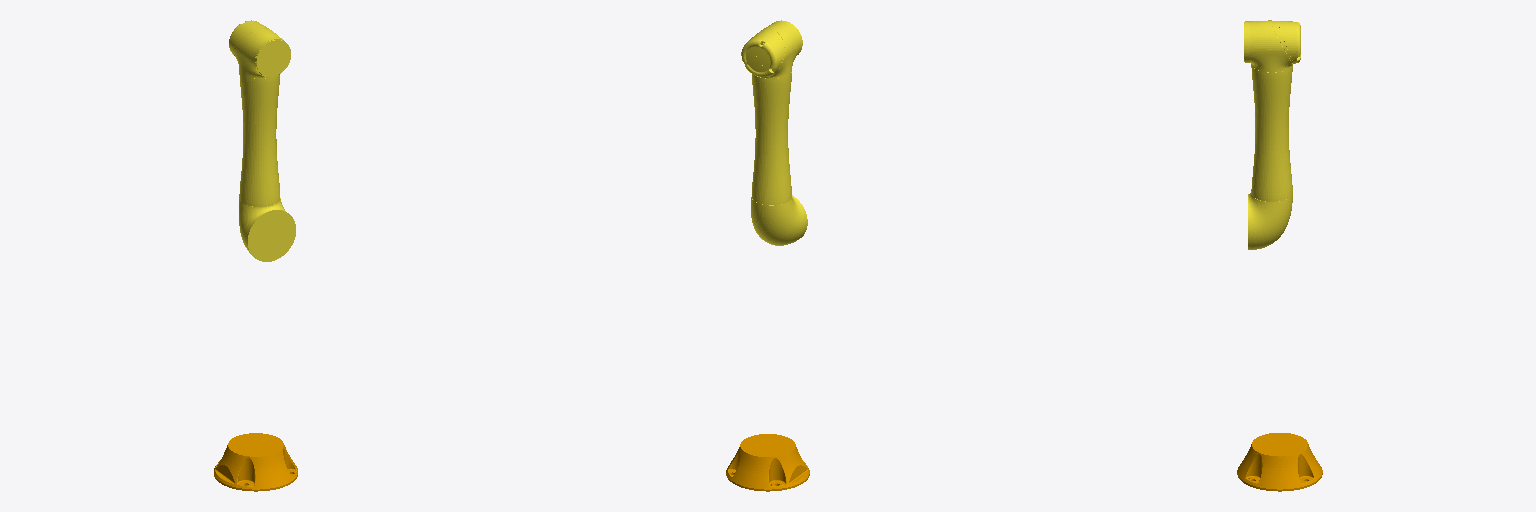
robot.urdf — tm5-900:
<?xml version="1.0" ?>
<!-- =================================================================================== -->
<!-- |    This document was autogenerated by xacro from tm5-900.urdf.xacro             | -->
<!-- |    EDITING THIS FILE BY HAND IS NOT RECOMMENDED                                 | -->
<!-- =================================================================================== -->
<robot name="tm5-900">
  <gazebo reference="link_1">
    <selfCollide>true</selfCollide>
  </gazebo>
  <gazebo reference="link_2">
    <selfCollide>true</selfCollide>
  </gazebo>
  <gazebo reference="link_3">
    <selfCollide>true</selfCollide>
  </gazebo>
  <gazebo reference="link_4">
    <selfCollide>true</selfCollide>
  </gazebo>
  <gazebo reference="link_5">
    <selfCollide>true</selfCollide>
  </gazebo>
  <gazebo reference="link_6">
    <selfCollide>true</selfCollide>
  </gazebo>
  <gazebo>
    <plugin filename="libgazebo_ros_control.so" name="gazebo_ros_control">
      <robotNamespace>/</robotNamespace>
      <robotSimType>gazebo_ros_control/DefaultRobotHWSim</robotSimType>
    </plugin>
  </gazebo>
  <transmission name="trans_1">
    <type>transmission_interface/SimpleTransmission</type>
    <joint name="joint_1">
      <hardwareInterface>hardware_interface/PositionJointInterface</hardwareInterface>
    </joint>
    <actuator name="motor_1">
      <mechanicalReduction>1</mechanicalReduction>
    </actuator>
  </transmission>
  <transmission name="trans_2">
    <type>transmission_interface/SimpleTransmission</type>
    <joint name="joint_2">
      <hardwareInterface>hardware_interface/PositionJointInterface</hardwareInterface>
    </joint>
    <actuator name="motor_2">
      <mechanicalReduction>1</mechanicalReduction>
    </actuator>
  </transmission>
  <transmission name="trans_3">
    <type>transmission_interface/SimpleTransmission</type>
    <joint name="joint_3">
      <hardwareInterface>hardware_interface/PositionJointInterface</hardwareInterface>
    </joint>
    <actuator name="motor_3">
      <mechanicalReduction>1</mechanicalReduction>
    </actuator>
  </transmission>
  <transmission name="trans_4">
    <type>transmission_interface/SimpleTransmission</type>
    <joint name="joint_4">
      <hardwareInterface>hardware_interface/PositionJointInterface</hardwareInterface>
    </joint>
    <actuator name="motor_4">
      <mechanicalReduction>1</mechanicalReduction>
    </actuator>
  </transmission>
  <transmission name="trans_5">
    <type>transmission_interface/SimpleTransmission</type>
    <joint name="joint_5">
      <hardwareInterface>hardware_interface/PositionJointInterface</hardwareInterface>
    </joint>
    <actuator name="motor_5">
      <mechanicalReduction>1</mechanicalReduction>
    </actuator>
  </transmission>
  <transmission name="trans_6">
    <type>transmission_interface/SimpleTransmission</type>
    <joint name="joint_6">
      <hardwareInterface>hardware_interface/PositionJointInterface</hardwareInterface>
    </joint>
    <actuator name="motor_6">
      <mechanicalReduction>1</mechanicalReduction>
    </actuator>
  </transmission>
  <material name="lightgrey">
    <color rgba="0.5 0.5 0.5 1.0"/>
  </material>
  <material name="grey">
    <color rgba="0.75 0.75 0.75 1.0"/>
  </material>
  <material name="white">
    <color rgba="0.95 0.95 0.95 1.0"/>
  </material>
  <material name="red">
    <color rgba="0.95 0.0 0.0 1.0"/>
  </material>
  <material name="orange">
    <color rgba="1.0 0.5 0.0 1.0"/>
  </material>
  <material name="yellow">
    <color rgba="1.0 1.0 0.0 1.0"/>
  </material>
  <material name="green">
    <color rgba="0.0 1.0 0.0 1.0"/>
  </material>
  <material name="blue">
    <color rgba="0.0 0.0 1.0 1.0"/>
  </material>
  <material name="indigo">
    <color rgba="0.3 0.3 0.6 1.0"/>
  </material>
  <material name="violet">
    <color rgba="0.6 0.0 1.0 1.0"/>
  </material>
  <material name="black">
    <color rgba="0.0 0.0 0.0 1.0"/>
  </material>
  <material name="darkolive">
    <color rgba="0.3 0.3 0.25 1.0"/>
  </material>
  <!--LinkDescription-->
  <link name="link_0">
    <visual>
      <geometry>
        <mesh filename="package://tm_description/meshes/tm5-900/visual/tm5-base.obj"/>
      </geometry>
      <material name="none"/>
    </visual>
    <collision>
      <geometry>
        <mesh filename="package://tm_description/meshes/tm5-900/collision/tm5-base_c.stl"/>
      </geometry>
    </collision>
    <inertial>
      <mass value="1.0"/>
      <origin rpy="0.000000 0.000000 0.000000" xyz="0.000000 0.000000 0.000000"/>
      <inertia ixx="0.00110833289" ixy="0.0" ixz="0.0" iyy="0.00110833289" iyz="0.0" izz="0.0018"/>
    </inertial>
  </link>
  <joint name="joint_1" type="revolute">
    <parent link="link_0"/>
    <child link="link_1"/>
    <origin rpy="0.000000 -0.000000 0.000000" xyz="0.000000 0.000000 0.145100"/>
    <axis xyz="0 0 1"/>
    <!--limit-->
    <limit effort="157" lower="-4.71238898038469" upper="4.71238898038469" velocity="3.141592653589793"/>
    <dynamics damping="0.0" friction="0.0"/>
  </joint>
  <link name="link_1">
    <visual>
      <geometry>
        <mesh filename="package://tm_description/meshes/tm5-900/visual/tmr_400w_01.obj"/>
      </geometry>
      <material name="none"/>
    </visual>
    <collision>
      <geometry>
        <mesh filename="package://tm_description/meshes/tm5-900/collision/tmr_400w_01_c.stl"/>
      </geometry>
    </collision>
    <inertial>
      <origin rpy="0.000000 0.000000 0.000000" xyz="0.000000 0.000000 0.000000"/>
      <mass value="4.032"/>
      <inertia ixx="0.008800119" ixy="0.000000" ixz="0.000000" iyy="0.011548982" iyz="0.000000" izz="0.011970080999999999"/>
    </inertial>
  </link>
  <joint name="joint_2" type="revolute">
    <parent link="link_1"/>
    <child link="link_2"/>
    <origin rpy="-1.570796 -1.570796 0.000000" xyz="0.000000 0.000000 0.000000"/>
    <axis xyz="0 0 1"/>
    <!--limit-->
    <limit effort="157" lower="-3.141592653589793" upper="3.141592653589793" velocity="3.141592653589793"/>
    <dynamics damping="0.0" friction="0.0"/>
  </joint>
  <link name="link_2">
    <visual>
      <geometry>
        <mesh filename="package://tm_description/meshes/tm5-900/visual/tm5-900_arm1.obj"/>
      </geometry>
      <material name="none"/>
    </visual>
    <collision>
      <geometry>
        <mesh filename="package://tm_description/meshes/tm5-900/collision/tm5-900_arm1_c.stl"/>
      </geometry>
    </collision>
    <inertial>
      <origin rpy="0.000000 0.000000 0.000000" xyz="0.000000 0.000000 0.000000"/>
      <mass value="8.567"/>
      <inertia ixx="0.023552072" ixy="0.000000" ixz="0.000000" iyy="0.19825197" iyz="0.000000" izz="0.20459254"/>
    </inertial>
  </link>
  <joint name="joint_3" type="revolute">
    <parent link="link_2"/>
    <child link="link_3"/>
    <origin rpy="0.000000 -0.000000 0.000000" xyz="0.429000 0.000000 0.000000"/>
    <axis xyz="0 0 1"/>
    <!--limit-->
    <limit effort="157" lower="-2.705260340591211" upper="2.705260340591211" velocity="3.141592653589793"/>
    <dynamics damping="0.0" friction="0.0"/>
  </joint>
  <link name="link_3">
    <visual>
      <geometry>
        <mesh filename="package://tm_description/meshes/tm5-900/visual/tm5-900_arm2.obj"/>
      </geometry>
      <material name="none"/>
    </visual>
    <collision>
      <geometry>
        <mesh filename="package://tm_description/meshes/tm5-900/collision/tm5-900_arm2_c.stl"/>
      </geometry>
    </collision>
    <inertial>
      <origin rpy="0.000000 0.000000 0.000000" xyz="0.000000 0.000000 0.000000"/>
      <mass value="2.273"/>
      <inertia ixx="0.003380181" ixy="0.000000" ixz="0.000000" iyy="0.033829144" iyz="0.000000" izz="0.034328203"/>
    </inertial>
  </link>
  <joint name="joint_4" type="revolute">
    <parent link="link_3"/>
    <child link="link_4"/>
    <origin rpy="0.000000 -0.000000 1.570796" xyz="0.411500 0.000000 -0.122200"/>
    <axis xyz="0 0 1"/>
    <!--limit-->
    <limit effort="43" lower="-3.141592653589793" upper="3.141592653589793" velocity="3.9269908169872414"/>
    <dynamics damping="0.0" friction="0.0"/>
  </joint>
  <link name="link_4">
    <visual>
      <geometry>
        <mesh filename="package://tm_description/meshes/tm5-900/visual/tmr_100w_01.obj"/>
      </geometry>
      <material name="none"/>
    </visual>
    <collision>
      <geometry>
        <mesh filename="package://tm_description/meshes/tm5-900/collision/tmr_100w_01_c.stl"/>
      </geometry>
    </collision>
    <inertial>
      <origin rpy="0.000000 0.000000 0.000000" xyz="0.000000 0.000000 0.000000"/>
      <mass value="1.576"/>
      <inertia ixx="0.002058405" ixy="0.000000" ixz="0.000000" iyy="0.0025630790000000002" iyz="0.000000" izz="0.00264321"/>
    </inertial>
  </link>
  <joint name="joint_5" type="revolute">
    <parent link="link_4"/>
    <child link="link_5"/>
    <origin rpy="1.570796 -0.000000 0.000000" xyz="0.000000 -0.106000 0.000000"/>
    <axis xyz="0 0 1"/>
    <!--limit-->
    <limit effort="43" lower="-3.141592653589793" upper="3.141592653589793" velocity="3.9269908169872414"/>
    <dynamics damping="0.0" friction="0.0"/>
  </joint>
  <link name="link_5">
    <visual>
      <geometry>
        <mesh filename="package://tm_description/meshes/tm5-900/visual/tmr_100w_02.obj"/>
      </geometry>
      <material name="none"/>
    </visual>
    <collision>
      <geometry>
        <mesh filename="package://tm_description/meshes/tm5-900/collision/tmr_100w_02_c.stl"/>
      </geometry>
    </collision>
    <inertial>
      <origin rpy="0.000000 0.000000 0.000000" xyz="0.000000 0.000000 0.000000"/>
      <mass value="1.576"/>
      <inertia ixx="0.002058405" ixy="0.000000" ixz="0.000000" iyy="0.0025630790000000002" iyz="0.000000" izz="0.00264321"/>
    </inertial>
  </link>
  <joint name="joint_6" type="revolute">
    <parent link="link_5"/>
    <child link="link_6"/>
    <origin rpy="1.570796 -0.000000 0.000000" xyz="0.000000 -0.114400 0.000000"/>
    <axis xyz="0 0 1"/>
    <!--limit-->
    <limit effort="43" lower="-4.71238898038469" upper="4.71238898038469" velocity="3.9269908169872414"/>
    <dynamics damping="0.0" friction="0.0"/>
  </joint>
  <link name="link_6">
    <visual>
      <geometry>
        <mesh filename="package://tm_description/meshes/tm5-900/visual/tmr_ee.obj"/>
      </geometry>
      <material name="none"/>
    </visual>
    <collision>
      <geometry>
        <mesh filename="package://tm_description/meshes/tm5-900/collision/tmr_ee_c.stl"/>
      </geometry>
    </collision>
    <inertial>
      <origin rpy="0.000000 0.000000 0.000000" xyz="0.000000 0.000000 0.000000"/>
      <mass value="0.4"/>
      <inertia ixx="0.00047664299999999996" ixy="0.000000" ixz="0.000000" iyy="0.0008515759999999999" iyz="0.000000" izz="0.00095969"/>
    </inertial>
  </link>
  <link name="base"/>
  <joint name="base_fixed_joint" type="fixed">
    <parent link="base"/>
    <child link="link_0"/>
    <origin rpy="0.000000 0.000000 0.000000" xyz="0.000000 0.000000 0.000000"/>
  </joint>
  <link name="flange"/>
  <joint name="flange_fixed_joint" type="fixed">
    <parent link="link_6"/>
    <child link="flange"/>
    <origin rpy="0.000000 0.000000 0.000000" xyz="0.000000 0.000000 0.000000"/>
  </joint>
  <!--LinkDescription-->
</robot>

--- Facts derived from the render (not from the file) ---
The picture shows the robot from 3 angles, left to right: view 1: azimuth 30°, elevation 25°; view 2: azimuth 150°, elevation 25°; view 3: azimuth 270°, elevation 25°; orthographic projection.
Robot: tm5-900 — 9 links, 8 joints (6 revolute, 2 fixed); root link base; default pose: every joint at zero.
Links seen in each view (by area): view 1: link_3, link_0; view 2: link_3, link_0; view 3: link_3, link_0.
Link boxes in pixels (x1,y1,x2,y2): link_3: [229, 20, 295, 261]; link_0: [214, 433, 297, 491]; link_3: [741, 20, 807, 245]; link_0: [726, 434, 809, 491]; link_3: [1244, 20, 1300, 249]; link_0: [1237, 433, 1322, 491].
Size in the robot's own frame: 0.177 by 0.177 by 1.03 metres.
Meshes: 7 distinct files referenced, 2 mesh visuals loaded (2 OBJ); not drawn: 5 (reference not matched to a file when rendering).